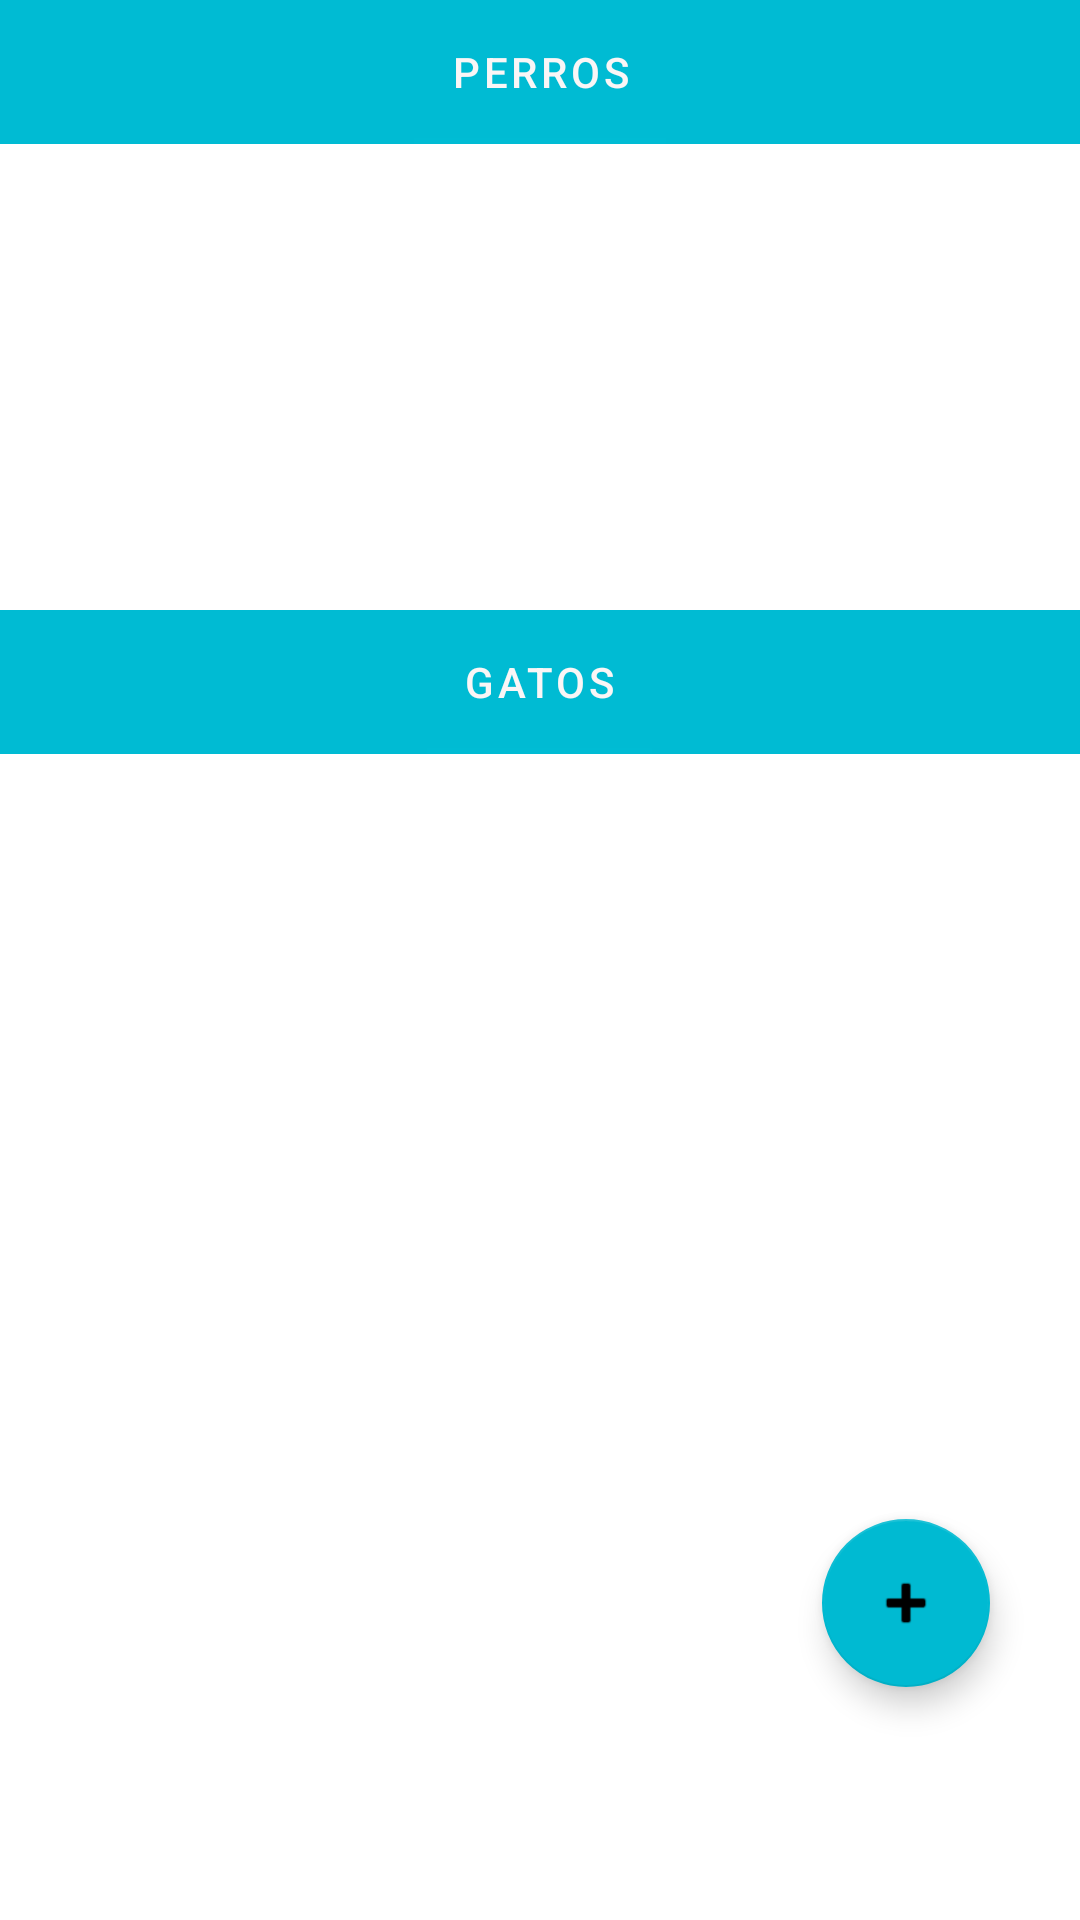

Icon bounding boxes for this 1080w x 1920h phone screenshot, format (x1, y1, x2, y2):
add: (822, 1519, 990, 1687)
